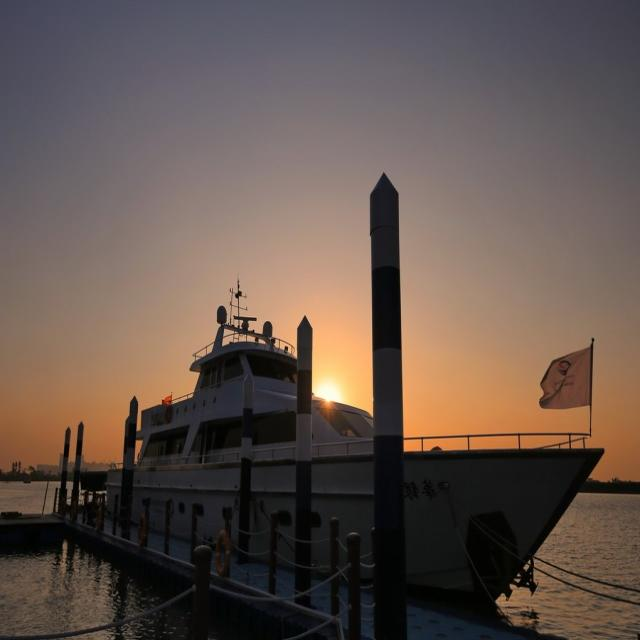houseboat: (97, 292, 615, 595)
